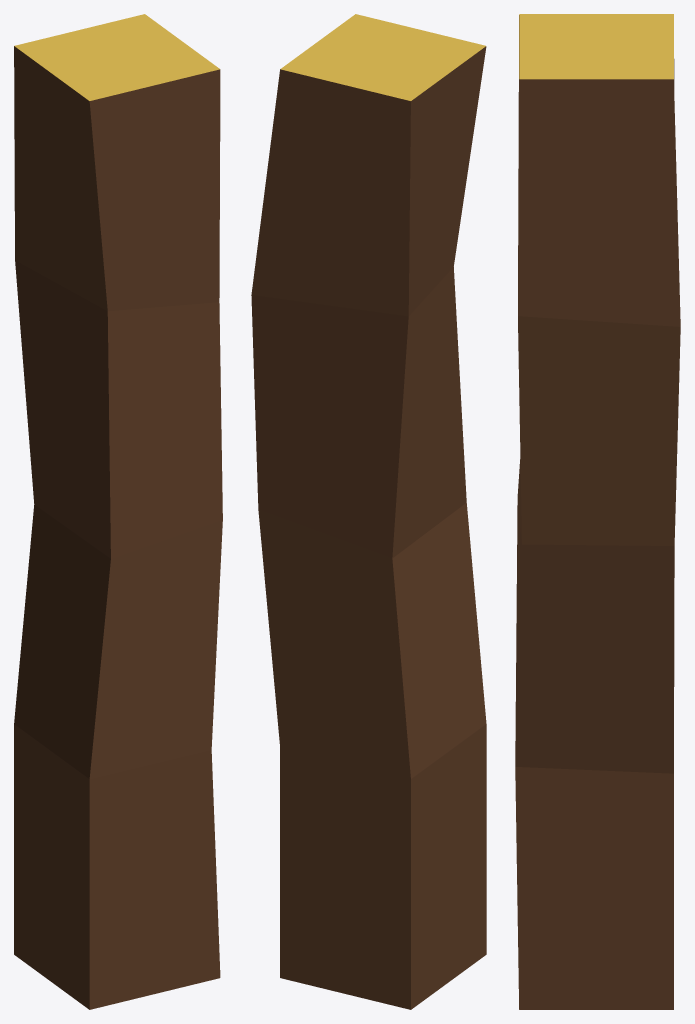
The model's file is chairLeg.glb.
3 views of the same model, side by side, from view 1: azimuth 30°, elevation 25°; view 2: azimuth 150°, elevation 25°; view 3: azimuth 270°, elevation 25° (orthographic). The views are drawn at different scales.
Parts seen in each view (by area): view 1: ChairLeg; view 2: ChairLeg; view 3: ChairLeg.
Boxes of the visible parts, left/top/right/bottom form: ChairLeg: left=14, top=14, right=222, bottom=1009; ChairLeg: left=251, top=14, right=486, bottom=1009; ChairLeg: left=515, top=14, right=680, bottom=1009.
Size of the model in its own units: 0.0562 by 0.3124 by 0.0503.
